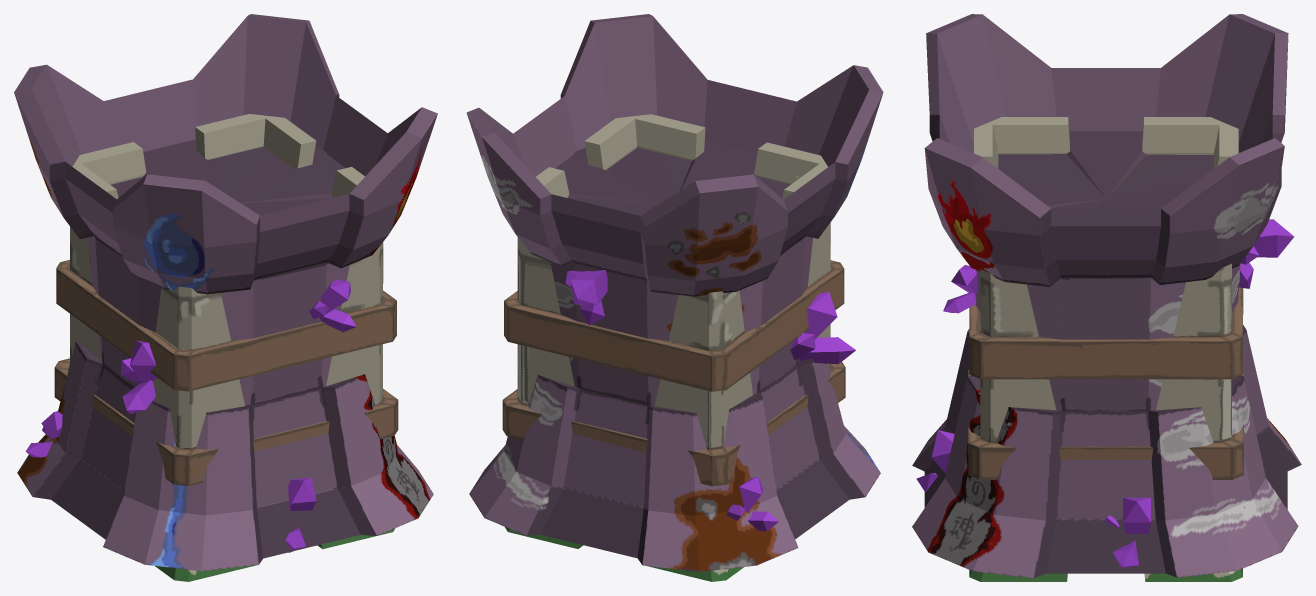
Rendered from towerUps.fbx.
The picture shows the model from 3 angles, left to right: view 1: azimuth 30°, elevation 25°; view 2: azimuth 150°, elevation 25°; view 3: azimuth 270°, elevation 25°; orthographic projection. The views are drawn at different scales.
Parts seen in each view (by area): view 1: MagicianTowerUp, ArcherTowerUp, Crystals; view 2: MagicianTowerUp, ArcherTowerUp, Crystals; view 3: MagicianTowerUp, ArcherTowerUp, Crystals.
Boxes of the visible parts, x1,y1,x2,y2 form: MagicianTowerUp: (14,14,437,571); ArcherTowerUp: (54,114,398,581); Crystals: (25,279,356,552); MagicianTowerUp: (466,14,883,571); ArcherTowerUp: (502,114,845,581); Crystals: (565,270,855,531); MagicianTowerUp: (912,14,1301,578); ArcherTowerUp: (968,117,1244,581); Crystals: (916,219,1294,568).
Bounding box in the file's own units: 1.08 × 1.43 × 1.08.
Materials: 10 (5 with a texture image).
